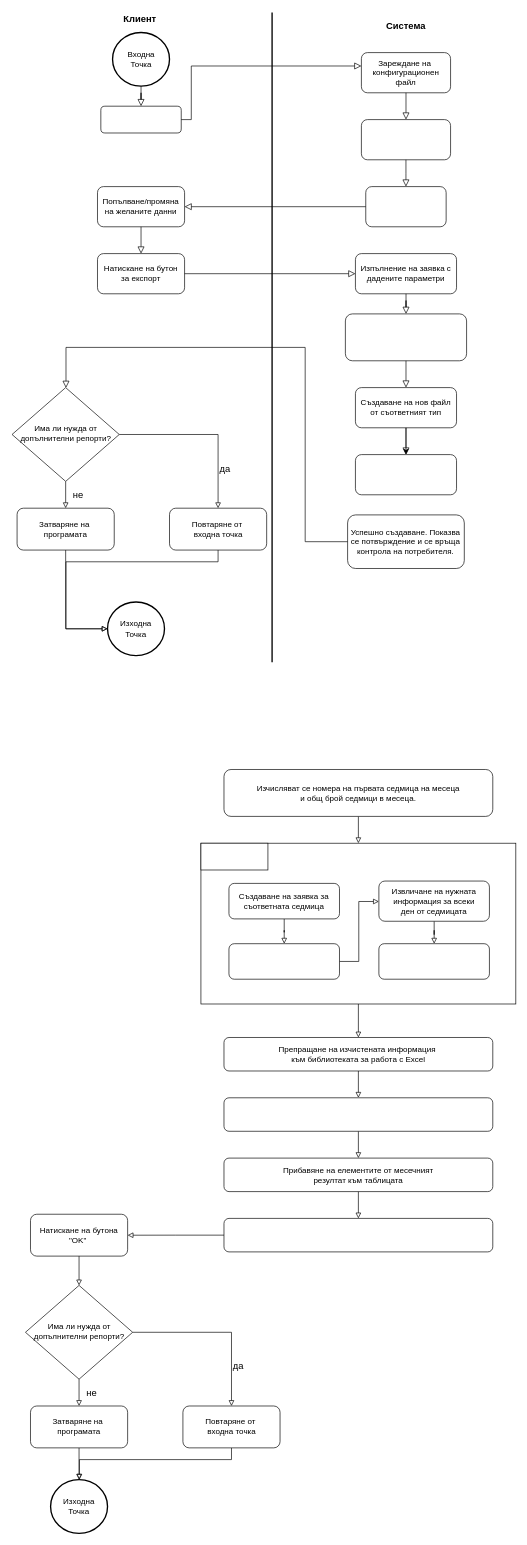
The diagram is 527 pixels wide and 1545 high, and some of its shapes have lost their labels. The centre of each missing label's shape, as x and y in pixels:
Добавяне на седмичният резултат към месечният: (433,961)
За всяка седмица:: (234,856)
Зареждане на графичният интерфейс: (405,206)
Изкарване на диалогов прозорец за успешно запаметяване на резултата: (358,1235)
Изпълняване на заявка и получаване на резултат: (283,961)
Обработка на пристигащата информация и извличане на елементи: (406,337)
Отваряне на прогамата: (140,119)
Попълване на всички данни от файла: (406,139)
Попълване на информацията спрямо формата: (406,474)
Създаване на копие на шаблонна таблица: (358,1114)
